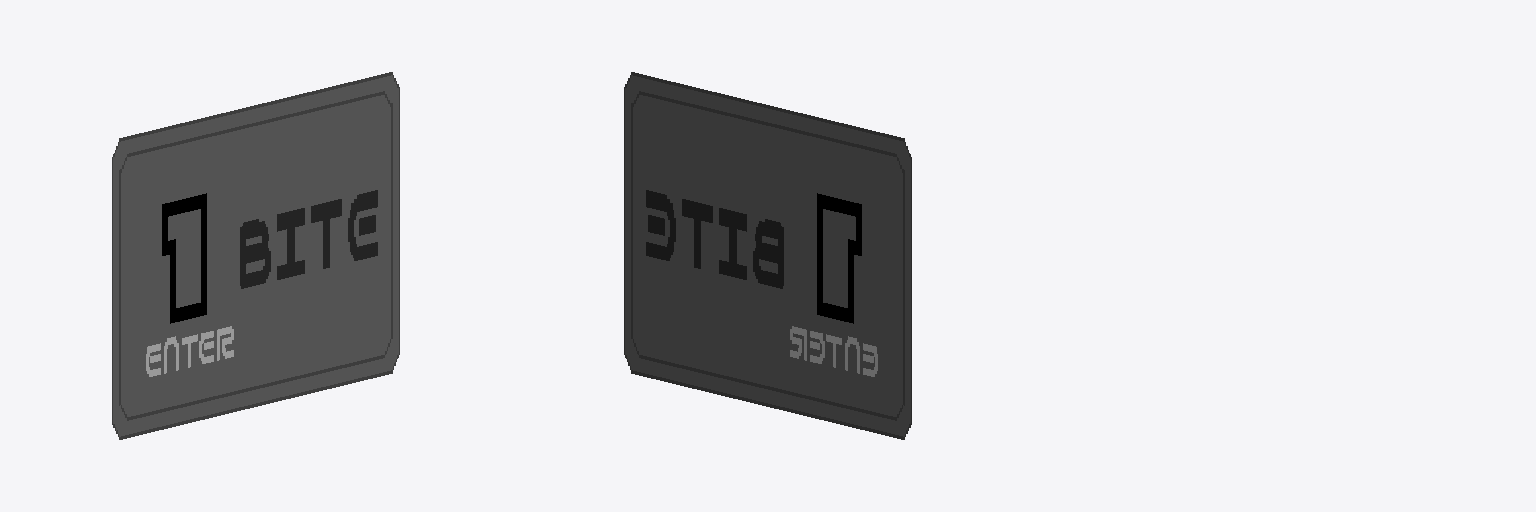
3 renders of one model, left to right at view 1: azimuth 30°, elevation 25°; view 2: azimuth 150°, elevation 25°; view 3: azimuth 270°, elevation 25°, orthographic.
Parts seen in each view (by area): view 1: 平面; view 2: 平面; view 3: none.
Boxes of the visible parts, <box> form: 平面: <box>112,72,399,439</box>; 平面: <box>624,72,911,439</box>.
Size of the model in its own units: 2 by 2 by 0.
1 materials, 1 textured.